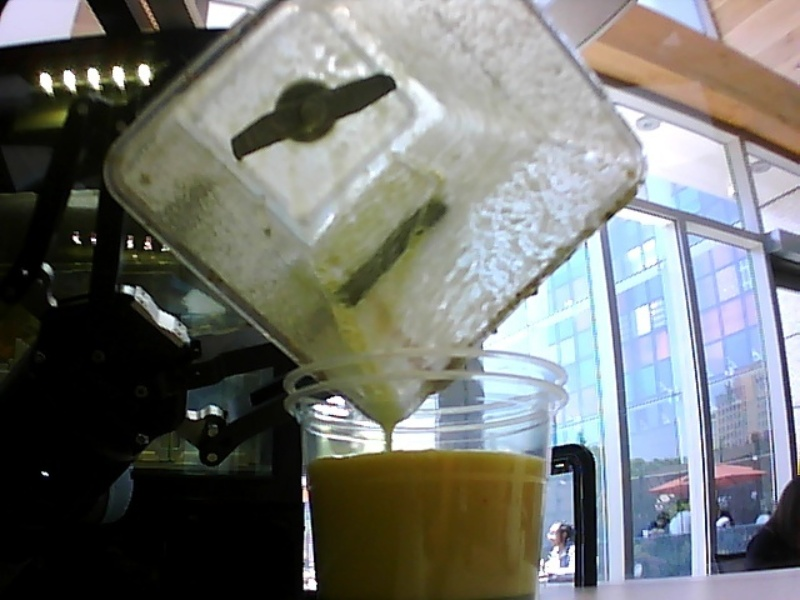cup: (279, 346, 588, 600)
limit: (303, 442, 554, 469)
